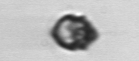plankton: (46, 9, 103, 53)
